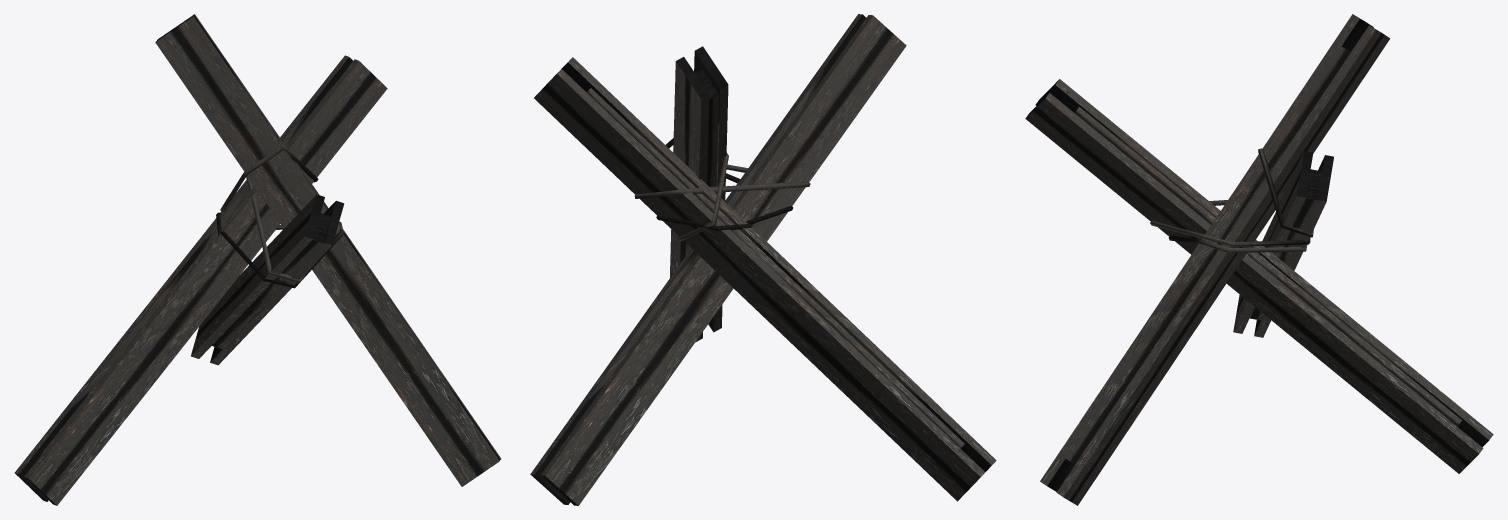
Rendered from barrier_1.obj.
3 renders of one model, left to right at view 1: azimuth 30°, elevation 25°; view 2: azimuth 150°, elevation 25°; view 3: azimuth 270°, elevation 25°, orthographic. The views are drawn at different scales.
Visible parts, largest first — view 1: barrier; view 2: barrier; view 3: barrier.
Part boxes in pixels (box(x1,y1,x2,y2)): barrier: box(14, 14, 501, 505); barrier: box(530, 14, 996, 505); barrier: box(1025, 14, 1493, 505).
Size of the model in its own units: 1.19 by 1.19 by 1.19.
1 material, 1 textured.
